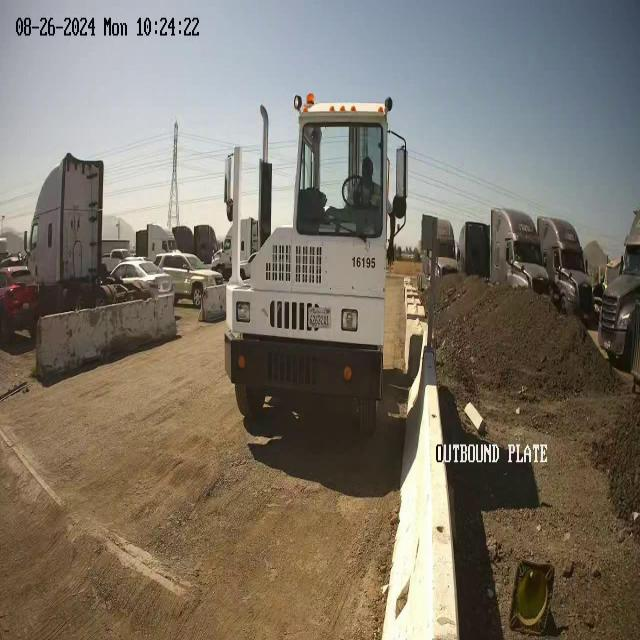TRUCK_OUT: (222, 91, 416, 436)
